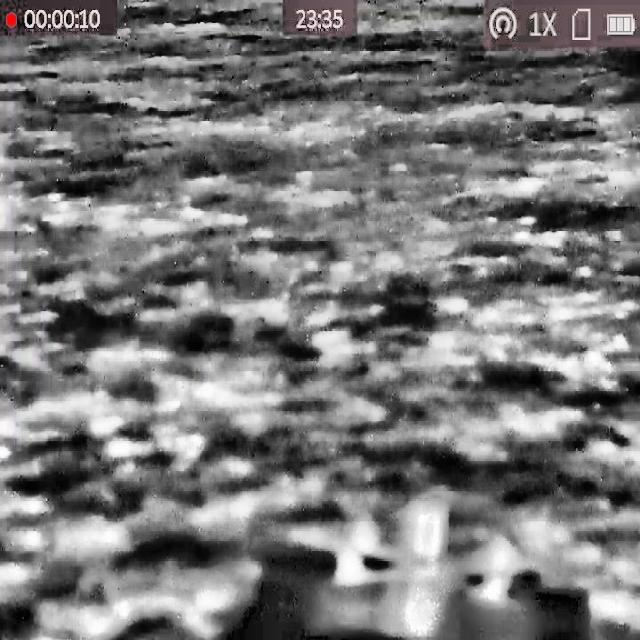drone: (332, 497, 520, 640)
